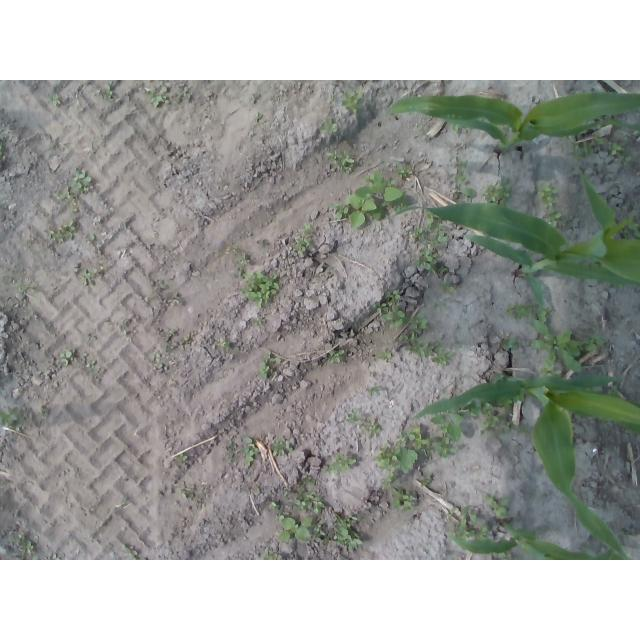Maize: (412, 373, 640, 560), (378, 175, 640, 290), (388, 90, 640, 154), (448, 520, 617, 561)
Weeds: (346, 171, 410, 229), (373, 426, 432, 488), (529, 319, 583, 377), (400, 332, 465, 368), (568, 131, 633, 165), (469, 402, 531, 437), (273, 511, 329, 543), (236, 268, 280, 308), (445, 507, 488, 542), (374, 291, 409, 330), (412, 210, 448, 247), (294, 475, 327, 515), (332, 513, 364, 551), (536, 183, 562, 229), (346, 408, 381, 438), (504, 301, 551, 323), (432, 410, 464, 442), (482, 176, 511, 208), (413, 247, 447, 273), (290, 223, 314, 258), (322, 452, 356, 476), (12, 532, 40, 560), (324, 150, 354, 175), (486, 491, 511, 519), (340, 86, 364, 115), (45, 220, 76, 242), (257, 350, 281, 378), (391, 486, 416, 512), (431, 436, 458, 460), (0, 404, 24, 431), (52, 188, 76, 213), (618, 216, 640, 240), (69, 169, 91, 193), (242, 436, 259, 466), (271, 435, 293, 457), (146, 86, 169, 107), (583, 333, 605, 352), (84, 353, 101, 376), (330, 201, 350, 220), (408, 314, 428, 331), (318, 119, 338, 136), (120, 544, 140, 560), (451, 186, 477, 198), (80, 267, 97, 285), (8, 282, 33, 293), (501, 337, 519, 352), (395, 164, 413, 179), (261, 549, 284, 560), (149, 352, 164, 368), (491, 552, 517, 561), (449, 172, 467, 185), (327, 350, 345, 363), (377, 349, 391, 363), (441, 282, 456, 295), (60, 349, 73, 364), (177, 487, 190, 501), (608, 384, 621, 397), (454, 155, 466, 169), (46, 94, 60, 106), (236, 251, 248, 265), (450, 122, 463, 134), (267, 501, 281, 512), (511, 393, 525, 404), (367, 387, 381, 398), (104, 84, 113, 101), (281, 489, 291, 504), (218, 338, 230, 350), (602, 420, 614, 431), (251, 318, 264, 327), (418, 128, 427, 141), (176, 454, 188, 462), (0, 133, 4, 156), (42, 407, 51, 414), (52, 553, 61, 560), (329, 94, 336, 101), (255, 113, 262, 120), (167, 345, 174, 352), (170, 329, 176, 335), (147, 296, 153, 301), (464, 374, 470, 379)
